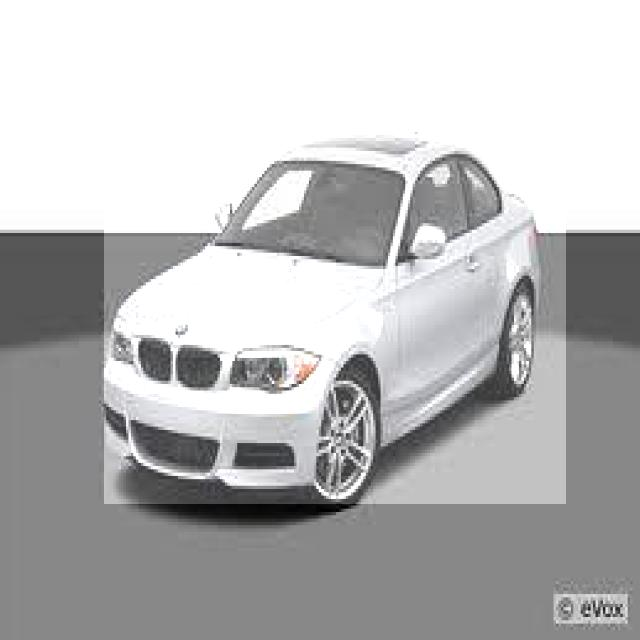Car: (104, 100, 566, 504)
